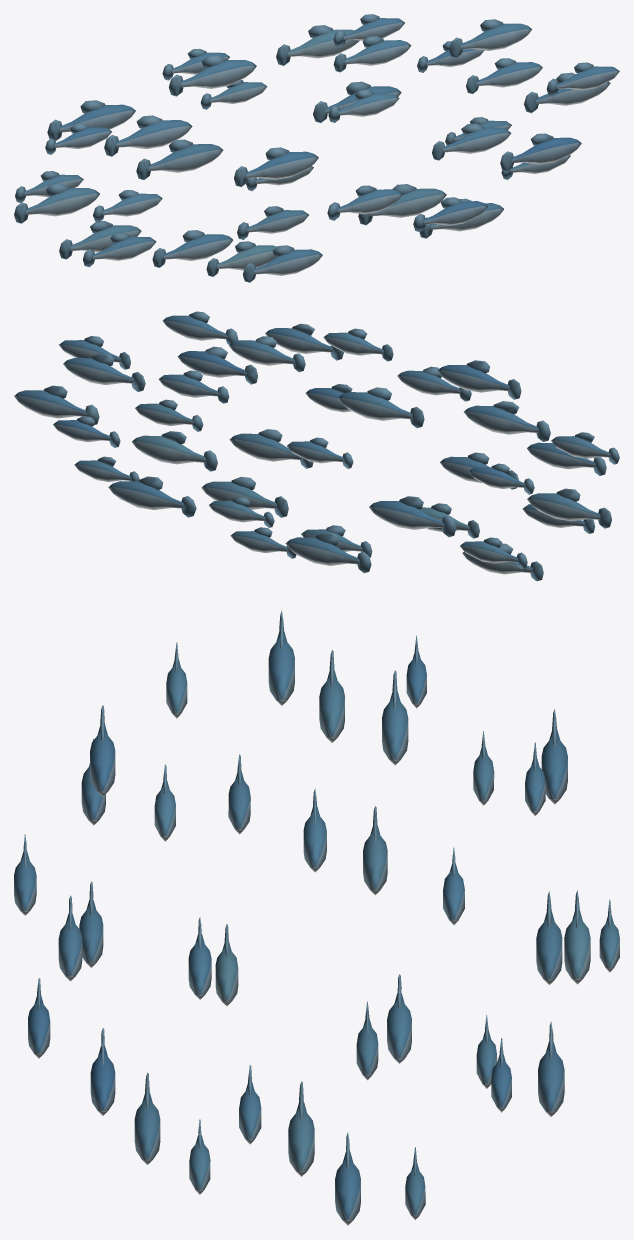
Rendered from fish_school.glb.
3 views of the same model, one above another, from view 1: azimuth 30°, elevation 25°; view 2: azimuth 150°, elevation 25°; view 3: azimuth 270°, elevation 25° (orthographic). The views are drawn at different scales.
Parts seen in each view (by area): view 1: fish_school; view 2: fish_school; view 3: fish_school.
Boxes of the visible parts, x1=… form: fish_school: x1=14, y1=14, x2=619, y2=282; fish_school: x1=14, y1=311, x2=619, y2=581; fish_school: x1=14, y1=610, x2=619, y2=1225.
Bounding box in the file's own units: 2.31 × 0.6942 × 1.13.
